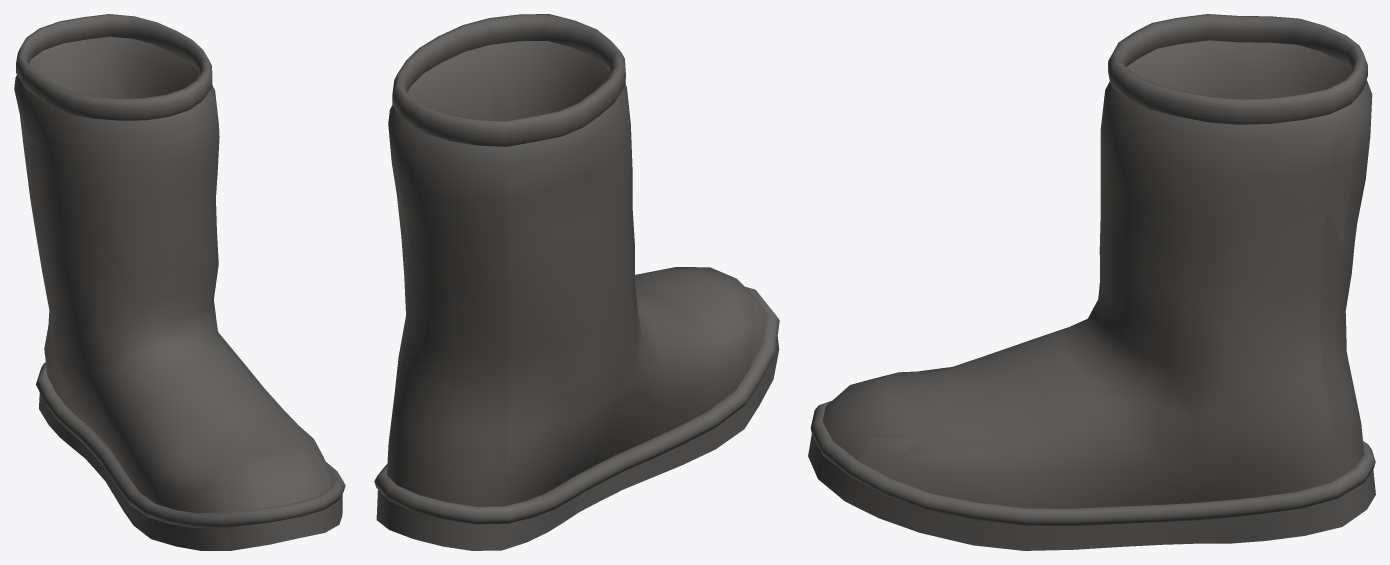
The model's file is boot_felt.glb.
3 renders of one model, left to right at view 1: azimuth 30°, elevation 25°; view 2: azimuth 150°, elevation 25°; view 3: azimuth 270°, elevation 25°, orthographic. The views are drawn at different scales.
Parts seen in each view (by area): view 1: boot_felt; view 2: boot_felt; view 3: boot_felt.
Boxes of the visible parts, left/top/right/bottom form: boot_felt: left=14, top=14, right=345, bottom=550; boot_felt: left=374, top=14, right=779, bottom=550; boot_felt: left=808, top=14, right=1375, bottom=550.
Bounding box in the file's own units: 0.1295 × 0.2525 × 0.2927.
1 material, 1 textured.
